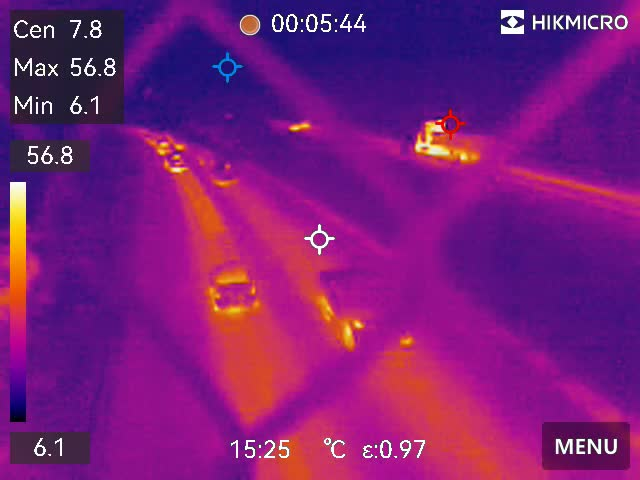heavyTruck: (415, 116, 493, 163)
